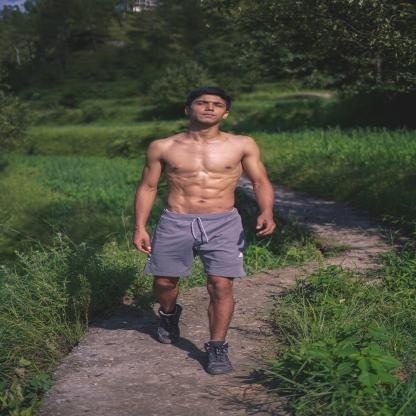jacket: (148, 206, 251, 282)
